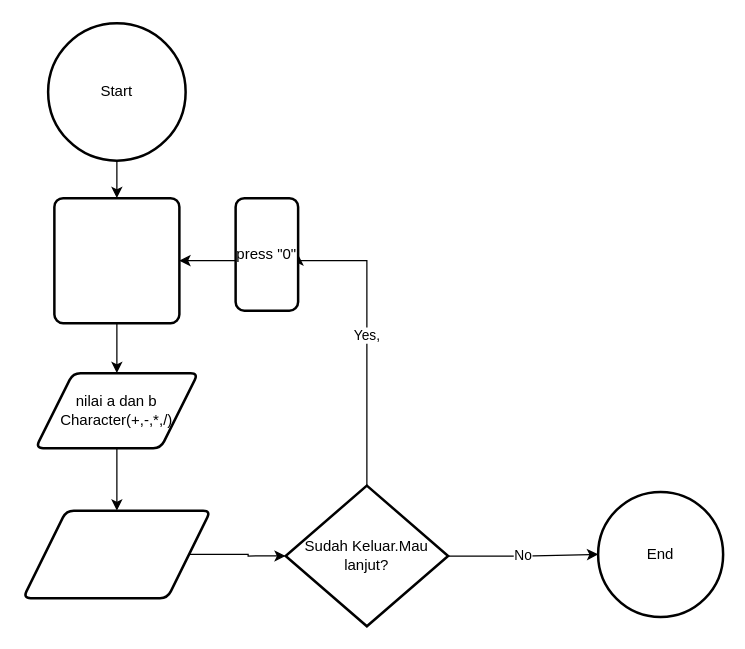
This 745x649 diagram has some shape labels left out. Here are the shapes that lost their labels. From the top down, the box of each, then its label:
(52, 196, 180, 324): Input data
(21, 509, 211, 599): Keluarkan hasilnya
